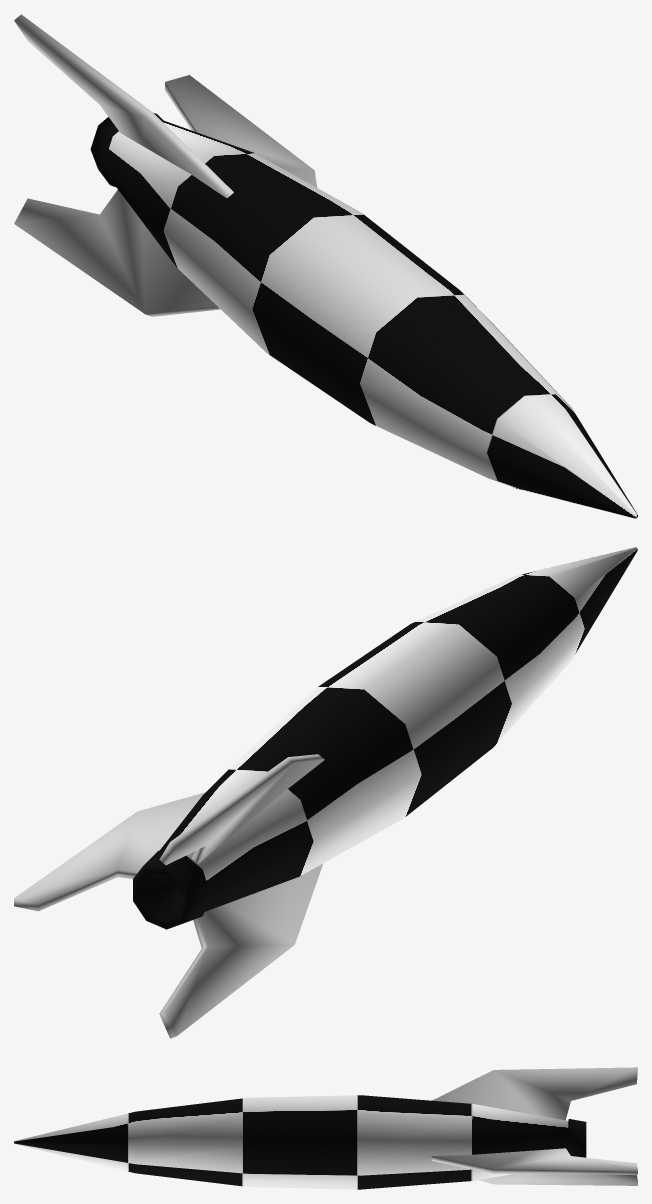
Rendered from roket.obj.
3 renders of one model, top to bottom at view 1: azimuth 30°, elevation 25°; view 2: azimuth 150°, elevation 25°; view 3: azimuth 270°, elevation 25°, orthographic. The views are drawn at different scales.
Parts seen in each view (by area): view 1: Cylinder002; view 2: Cylinder002; view 3: Cylinder002.
Part boxes in pixels (bbox=[...]): Cylinder002: bbox=[14, 14, 637, 518]; Cylinder002: bbox=[14, 547, 637, 1038]; Cylinder002: bbox=[14, 1067, 637, 1189].
Bounding box in the file's own units: 111 × 119 × 568.
